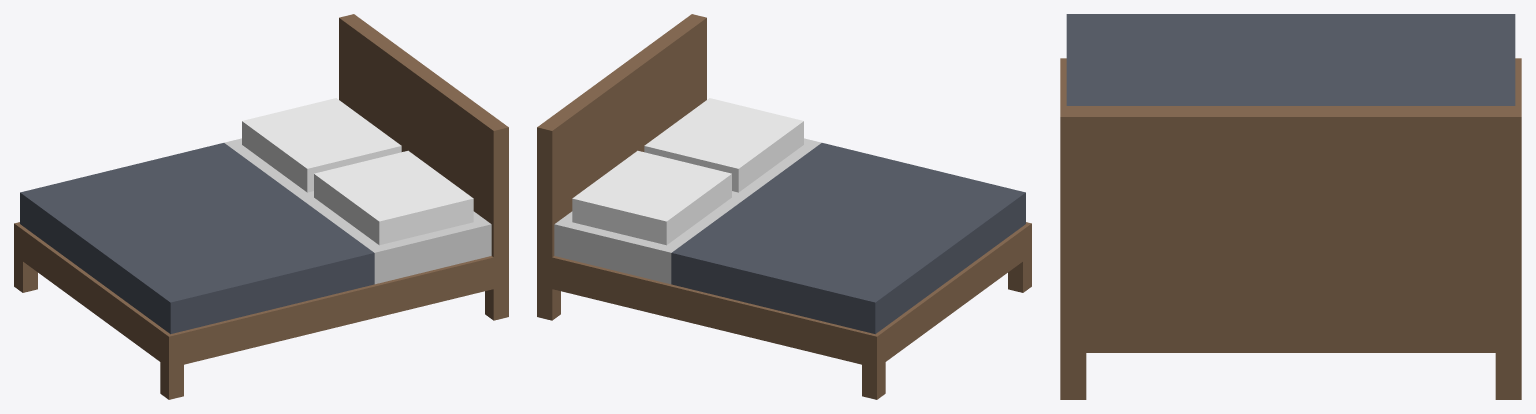
Rendered from bed50.obj.
3 renders of one model, left to right at view 1: azimuth 30°, elevation 25°; view 2: azimuth 150°, elevation 25°; view 3: azimuth 270°, elevation 25°, orthographic. The views are drawn at different scales.
Bounding box in the file's own units: 9 × 4.8 × 7.1.
Materials: 1 (1 with a texture image).
